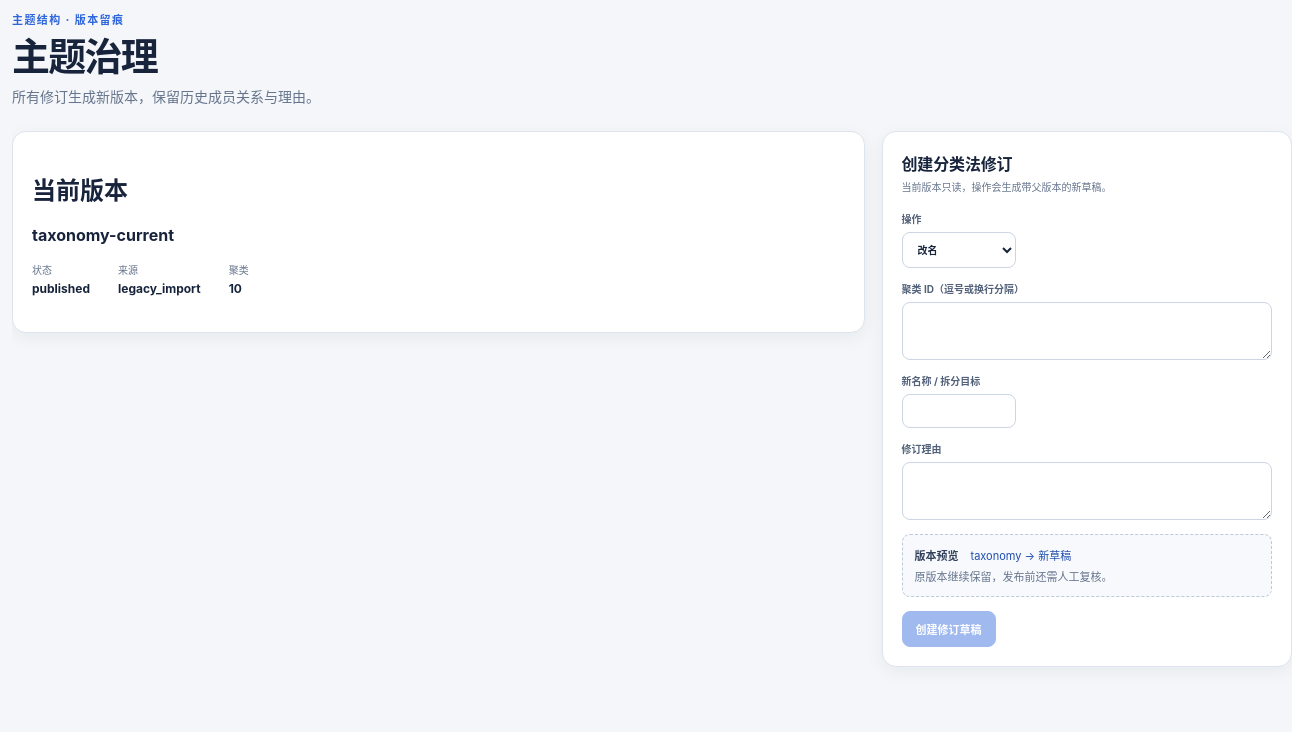
Scenario: taxonomy revision previews a new version instead of overwriting current state
Expected: the text "taxonomy-current" is shown, [32,226,174,246]
Expected: the text "原版本继续保留，发布前还需人工复核。" is shown, [914,570,1112,584]
In the text box labelled "聚类 ID（逗号或换行分隔）": x=1087, y=331 [902,302,1272,360], type "cluster-1"
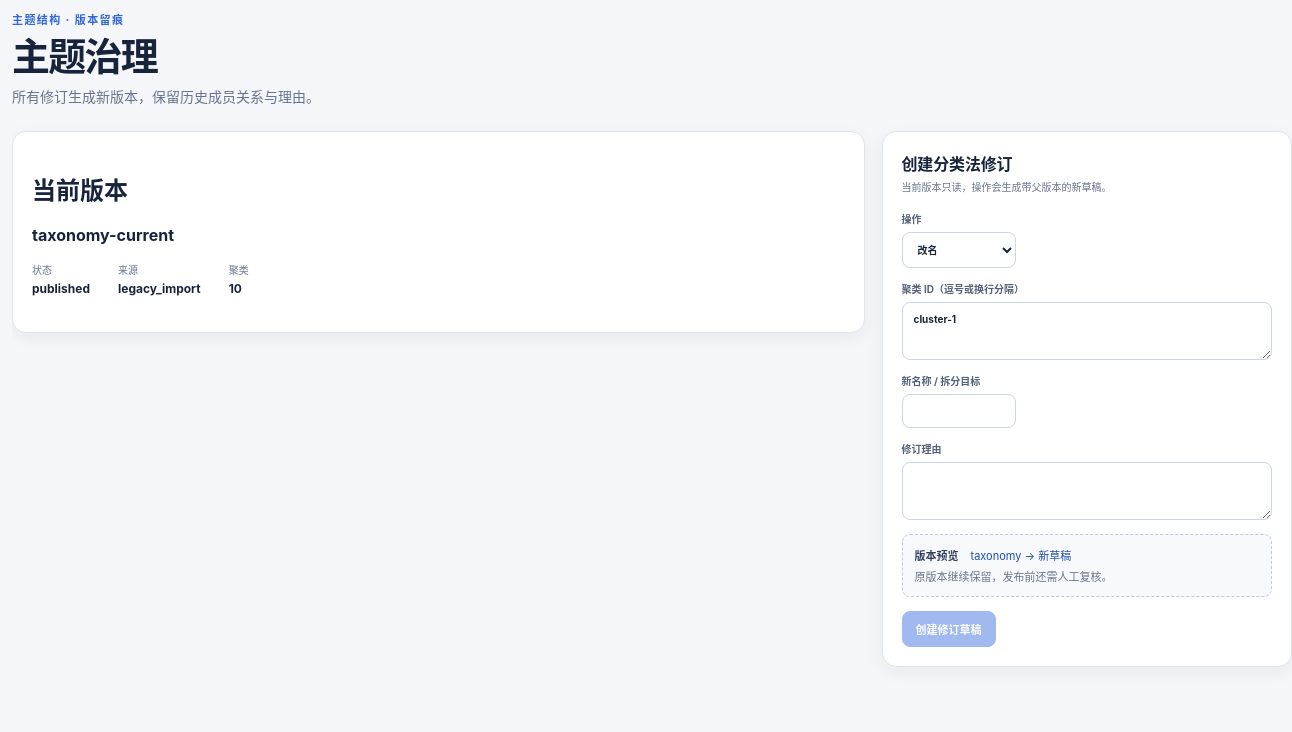
In the field labelled "新名称 / 拆分目标": x=959, y=411 [902,394,1016,428], type "容量预期"
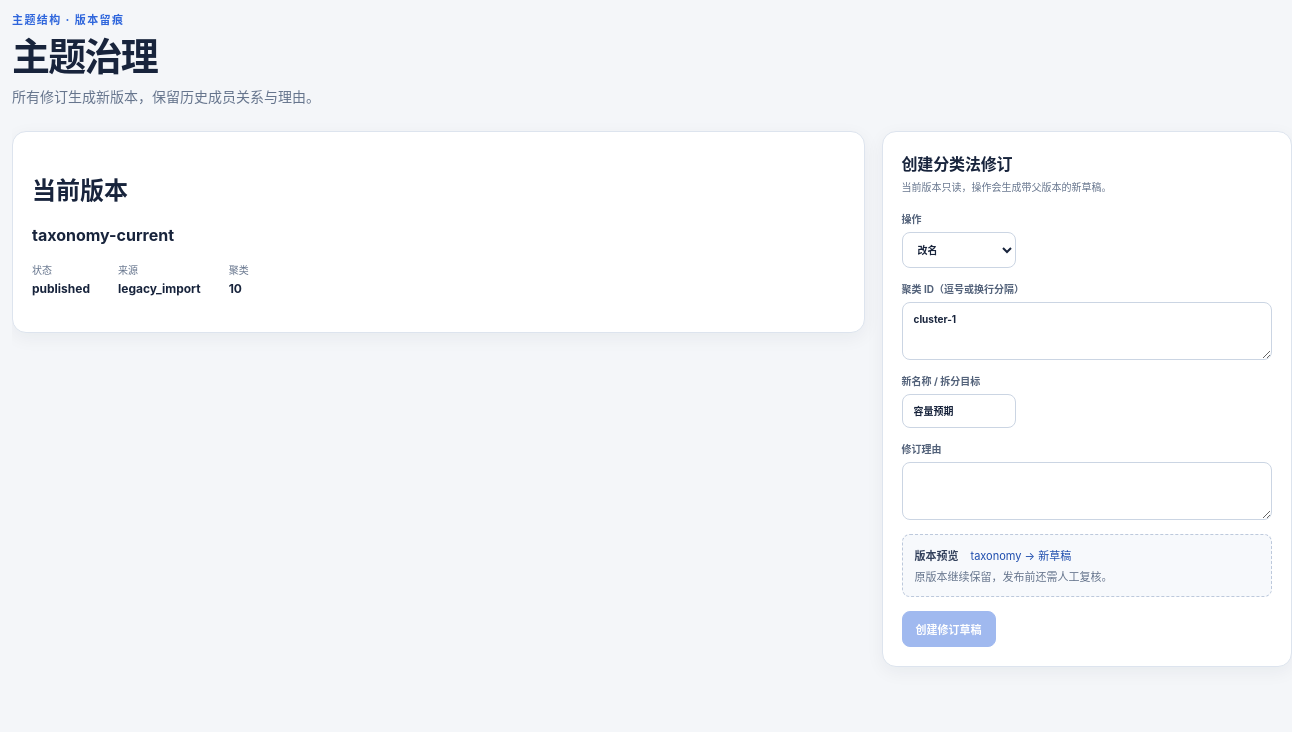
In the text box labelled "修订理由": x=1087, y=491 [902,462,1272,520], type "消除歧义"
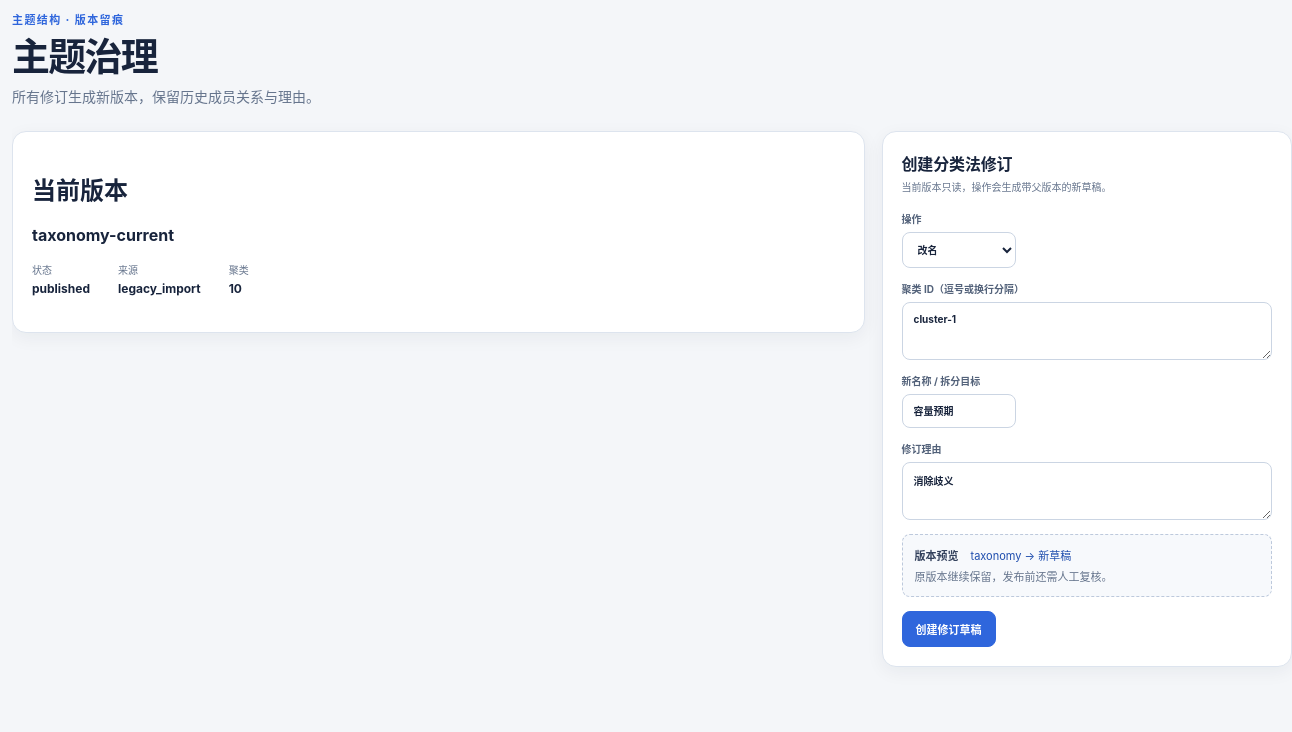
Click the button "创建修订草稿": x=948, y=629 [902,611,996,647]
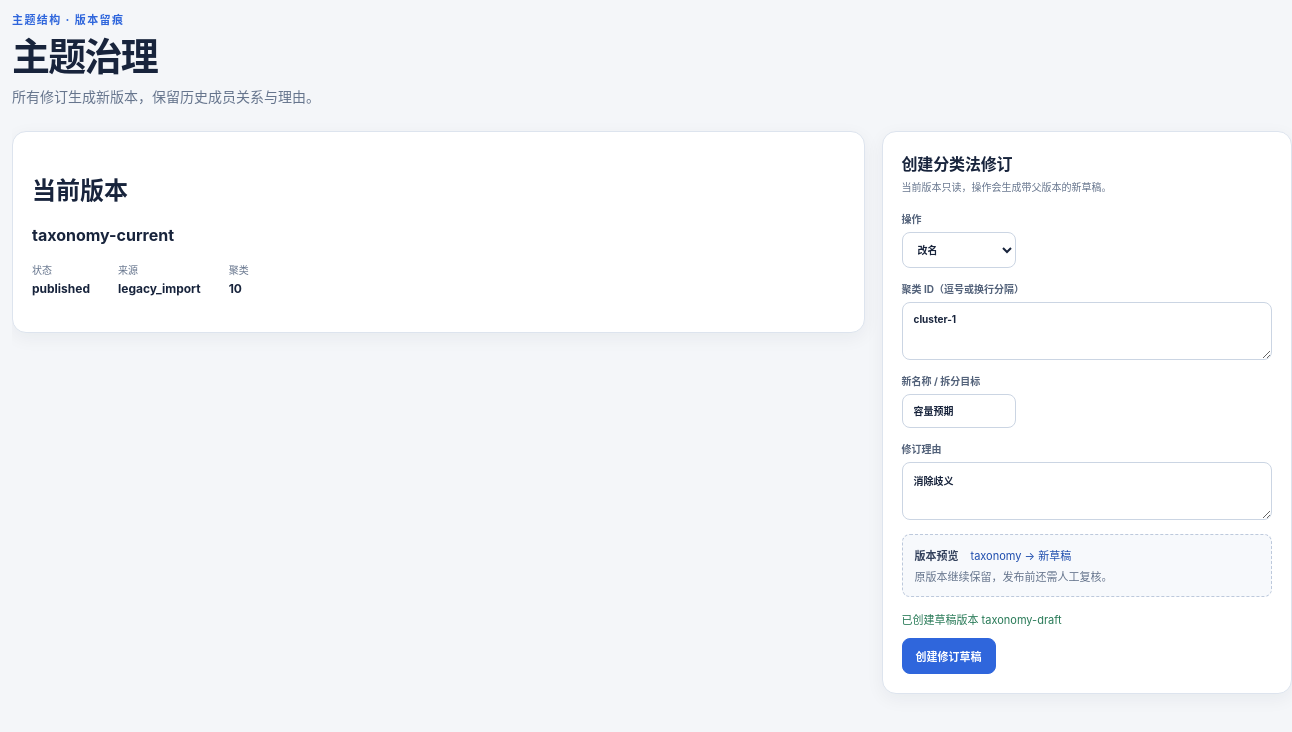
Expected: the text "已创建草稿版本 taxonomy-draft" is shown, [902,613,1062,627]
